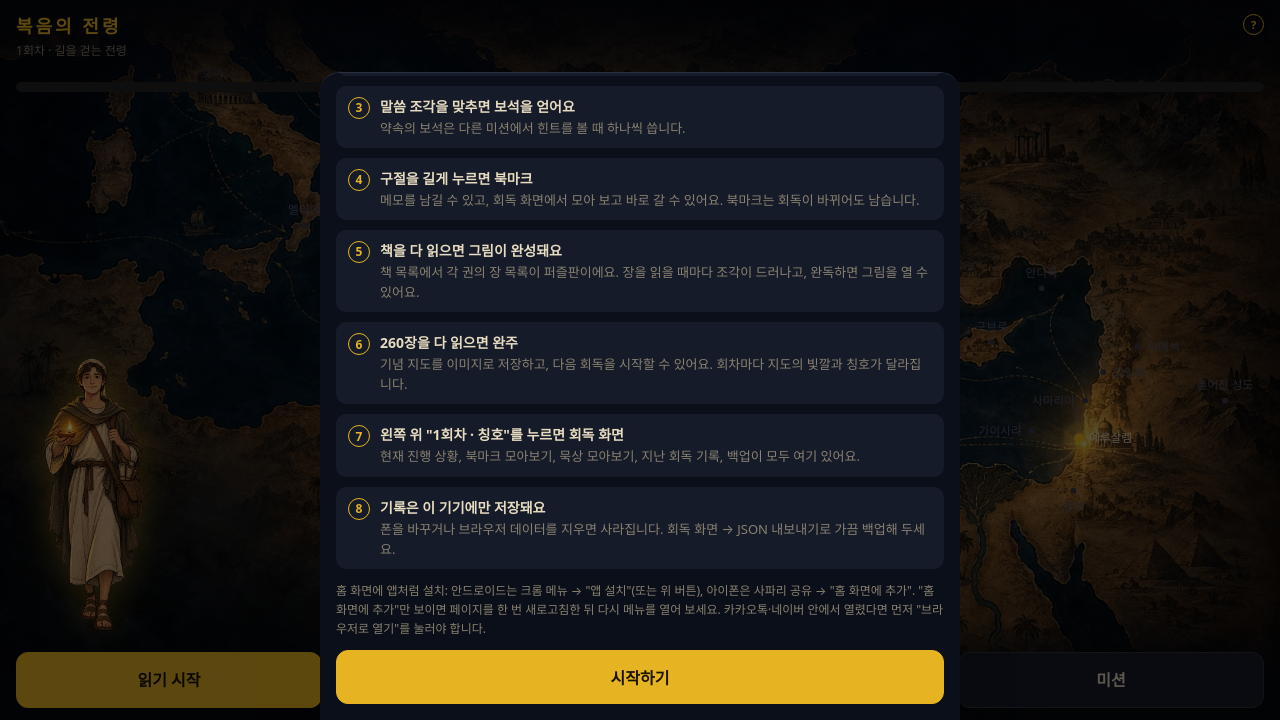
Test: guide opens on first visit, closes and remembers; (?) reopens it
(page scrolled)
Expected: the dialog named "사용 안내" shows "구절을 길게 누르면 북마크", [380,169,533,188]
Click the button "시작하기" at [640, 677], box [336,650,944,704]
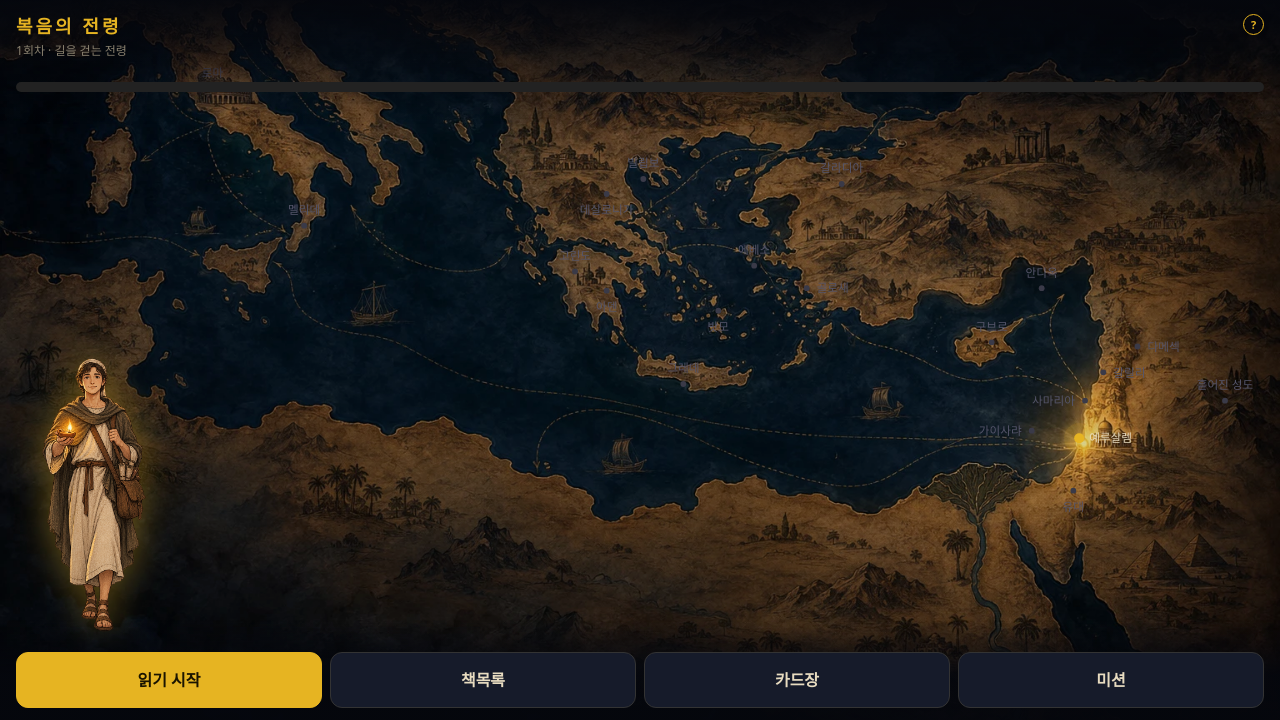
Click the button named "사용 안내" at [1254, 24], box [1243,14,1264,35]
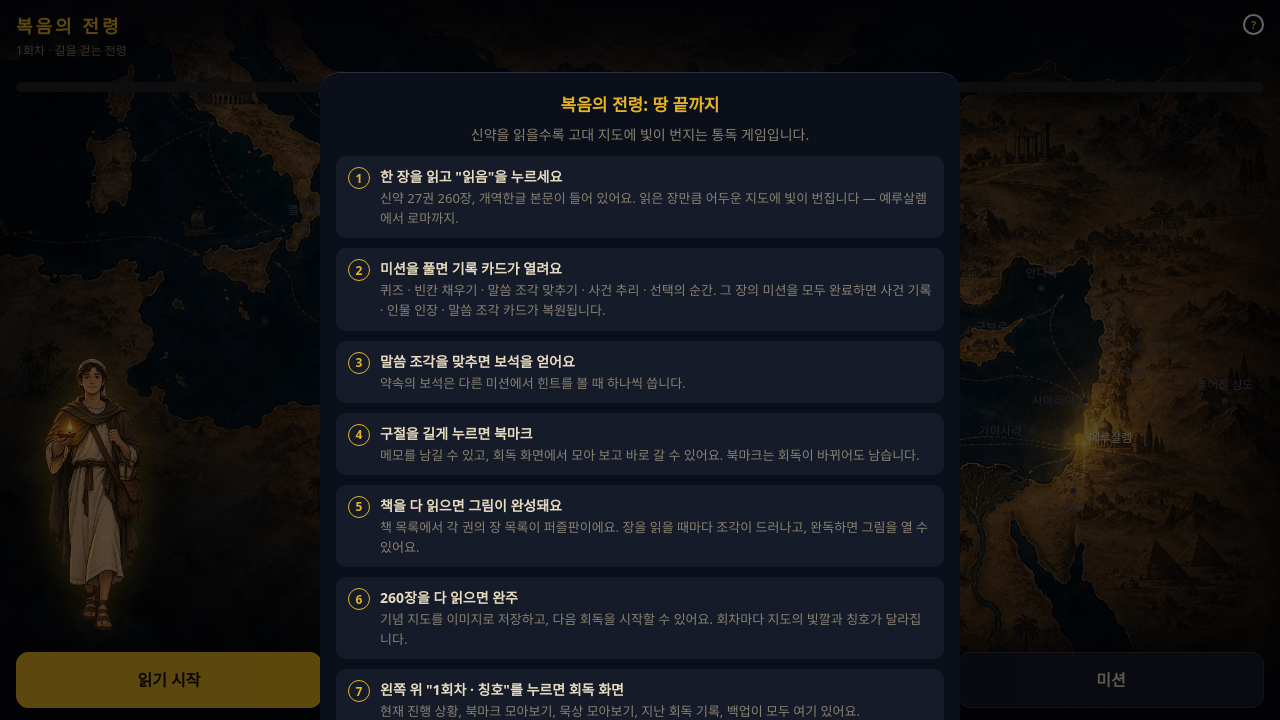
Expected: the dialog named "사용 안내" is shown
